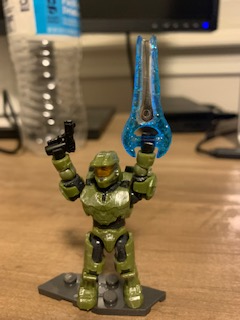chief: (42, 135, 158, 309)
pistol: (42, 119, 82, 160)
spartan: (40, 133, 156, 307)
up: (45, 138, 156, 227)
